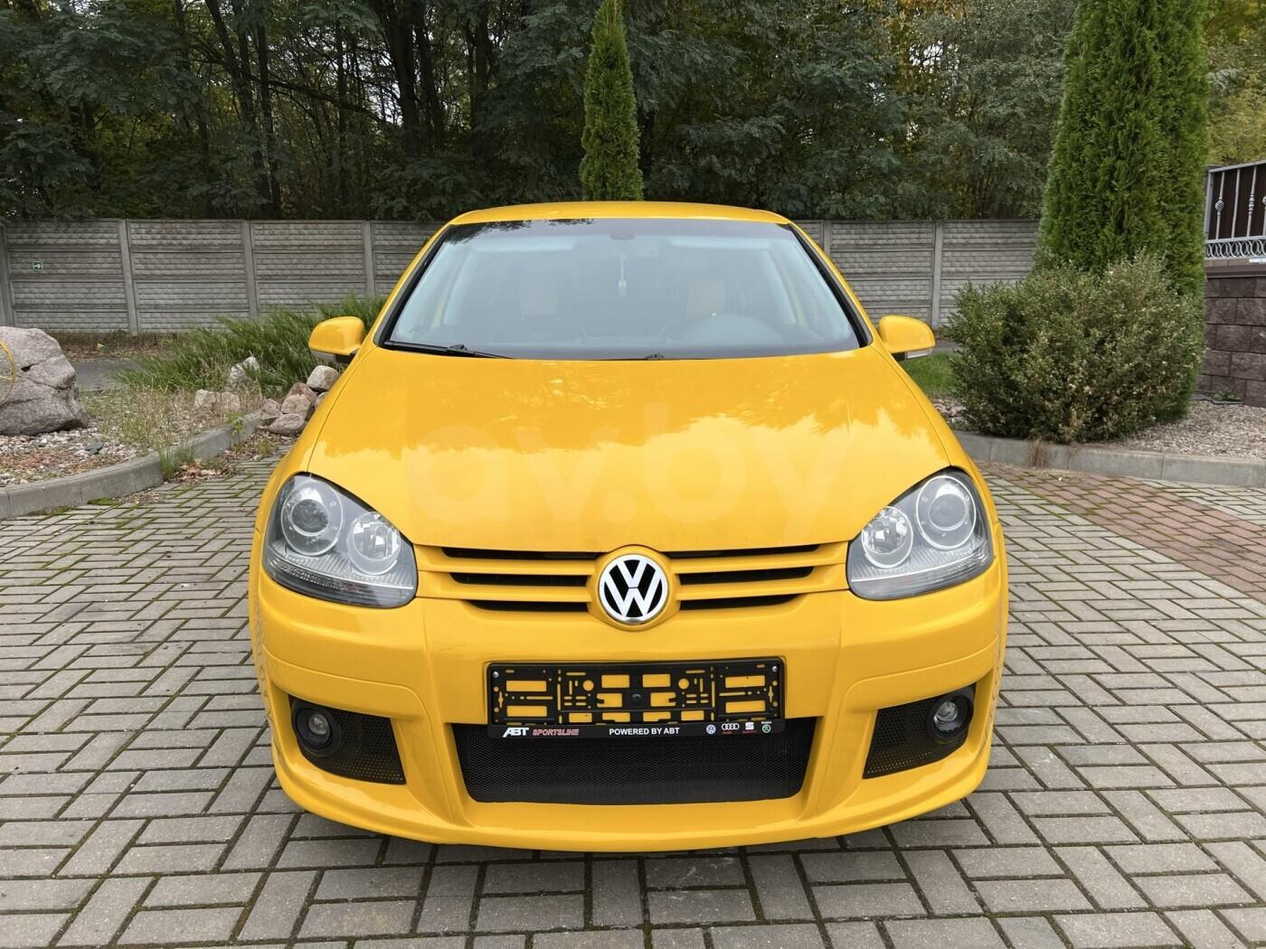Golf_2003-2009: (237, 194, 1016, 861)
